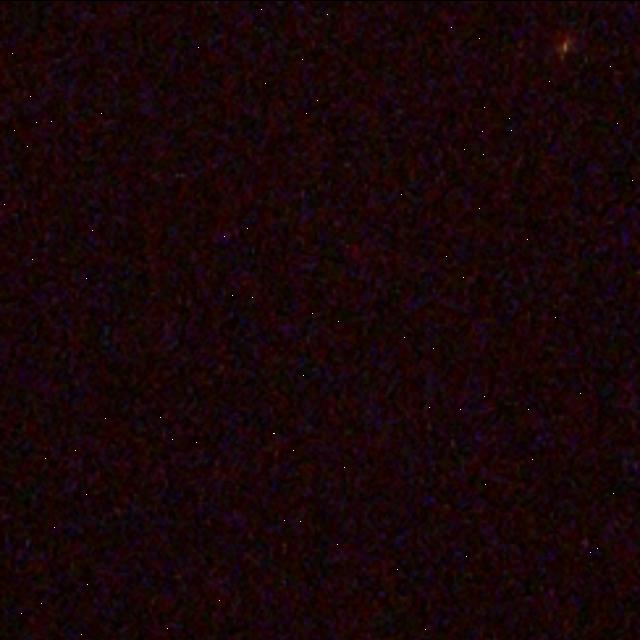Fragment: (558, 36, 572, 56)
